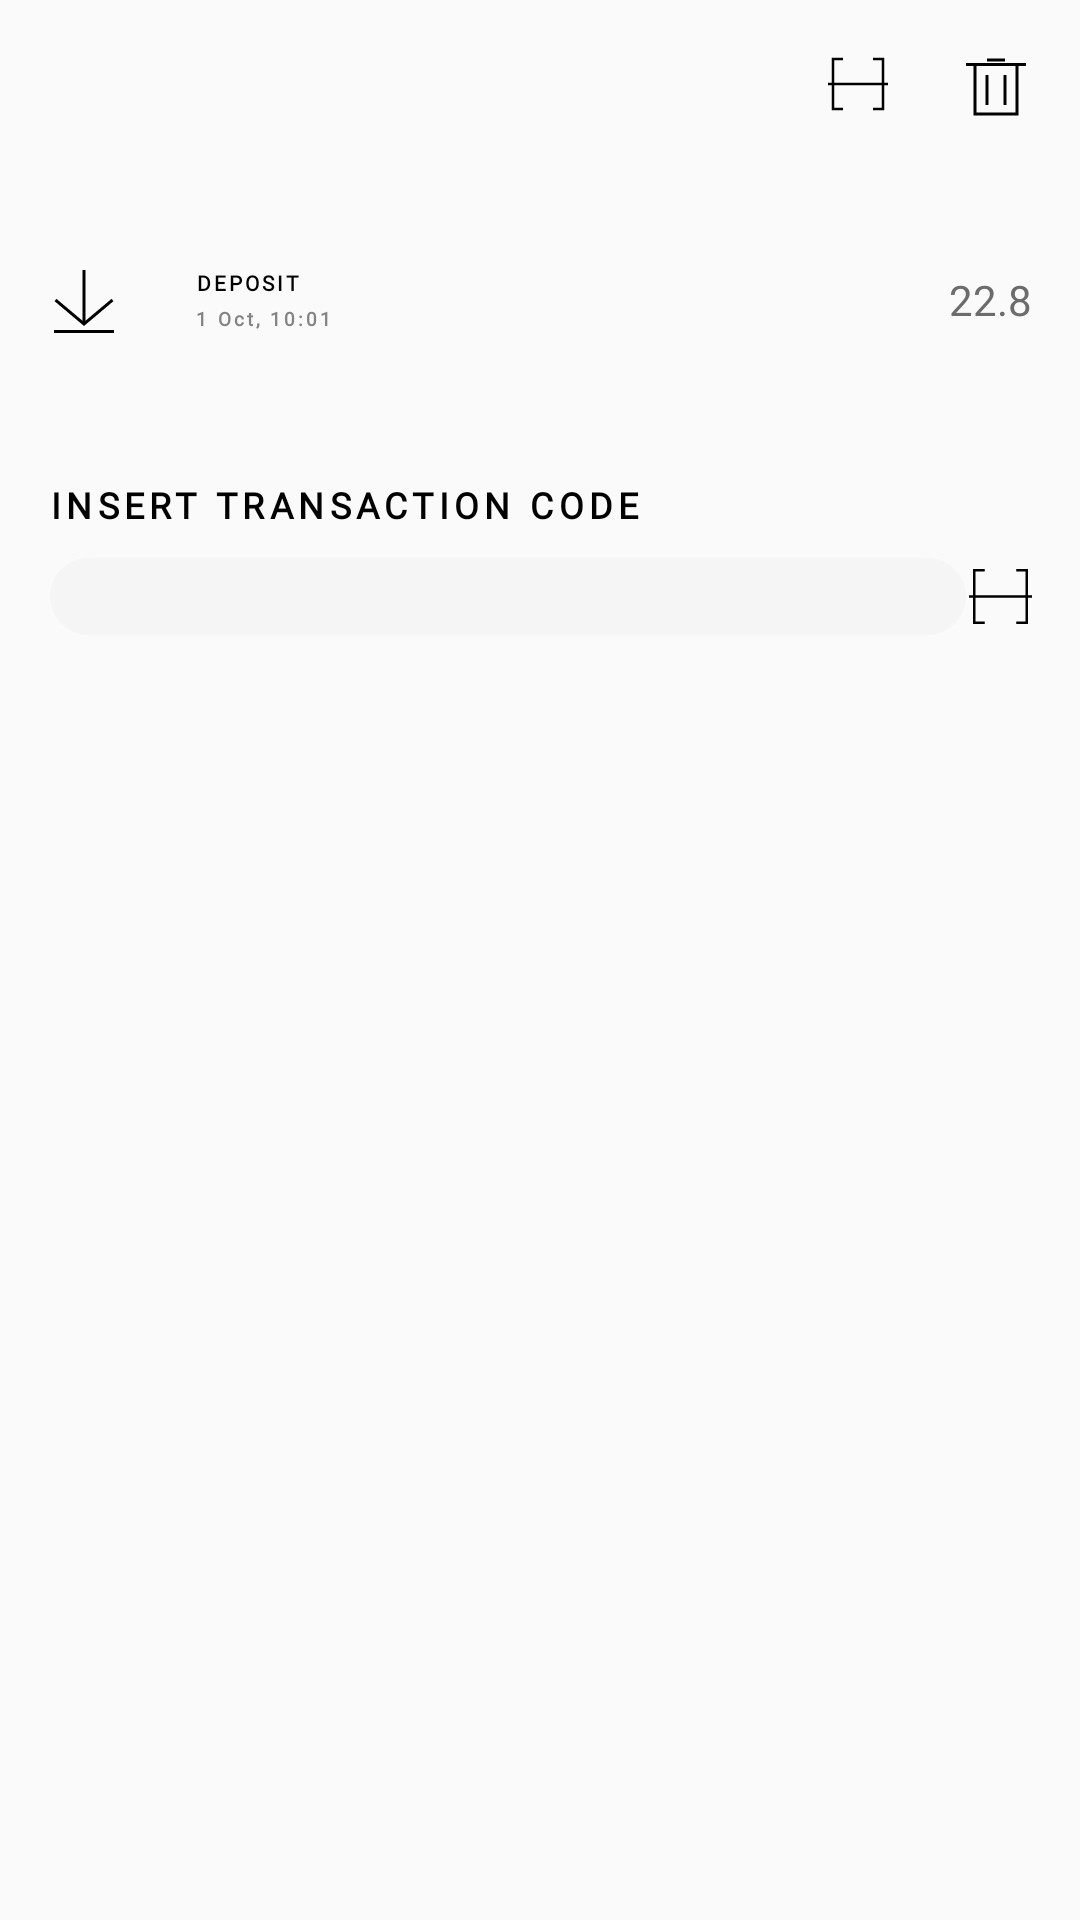

Screen size 1080 x 1920. Icon name, then its center in pixels as (x=x, y=y):
bin: (x=996, y=87)
scan: (x=858, y=84), (x=1000, y=596)
